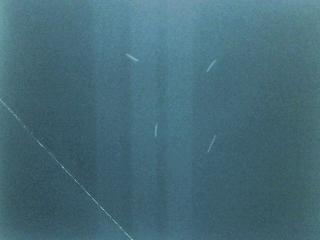crack: (0, 98, 132, 240)
scratch: (202, 133, 220, 158), (201, 55, 220, 76), (121, 48, 143, 66), (148, 120, 164, 143)
